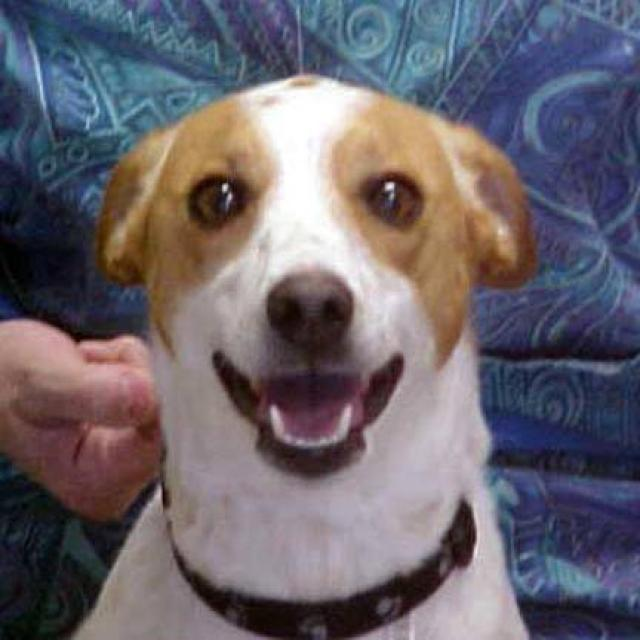happy: (88, 62, 592, 486)
